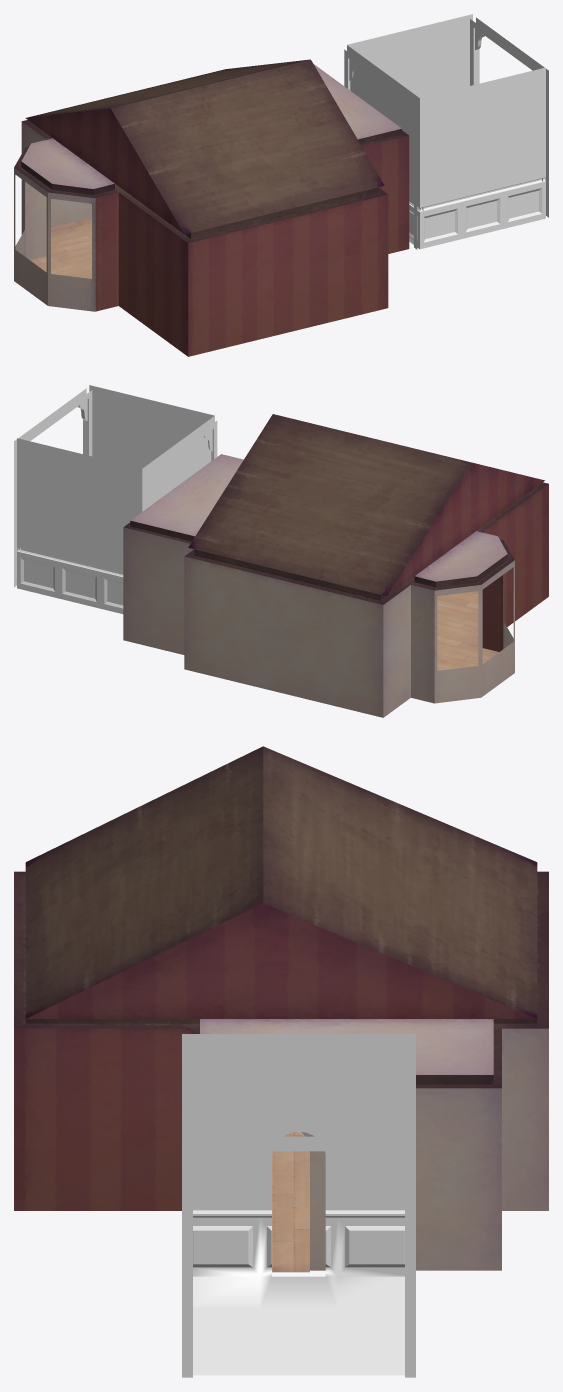
File: FinalLevel_Wall_Update_2.fbx
3 renders of one model, top to bottom at view 1: azimuth 30°, elevation 25°; view 2: azimuth 150°, elevation 25°; view 3: azimuth 270°, elevation 25°, orthographic. The views are drawn at different scales.
Visible parts, largest first — view 1: Walls.001, Hallway_Begin, Floor; view 2: Walls.001, Hallway_Begin, Floor; view 3: Walls.001, Hallway_Begin, Floor.
Boxes of the visible parts, x1,y1,x2,y2 form: Walls.001: (14, 59, 409, 356); Hallway_Begin: (344, 14, 548, 249); Floor: (30, 218, 91, 278); Walls.001: (123, 414, 548, 717); Hallway_Begin: (14, 385, 217, 613); Floor: (437, 591, 498, 670); Walls.001: (14, 746, 548, 1270); Hallway_Begin: (182, 1034, 415, 1377); Floor: (272, 1132, 309, 1272).
Bounding box in the file's own units: 3677 × 1446 × 2277.
